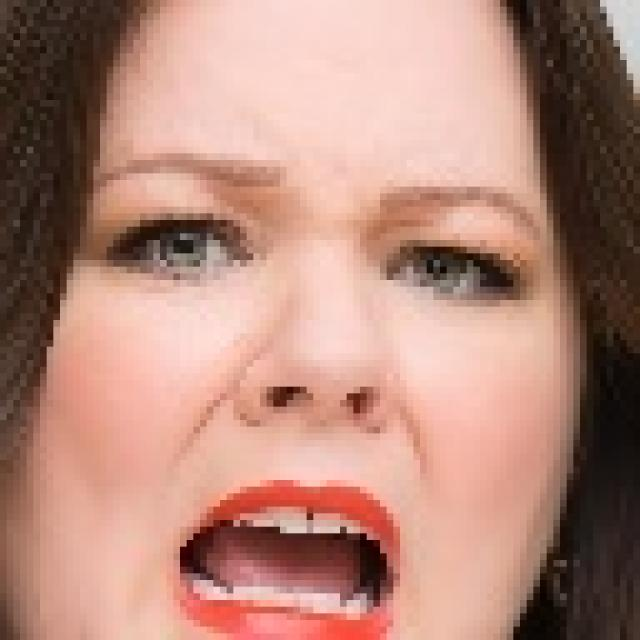angry: (6, 24, 556, 640)
